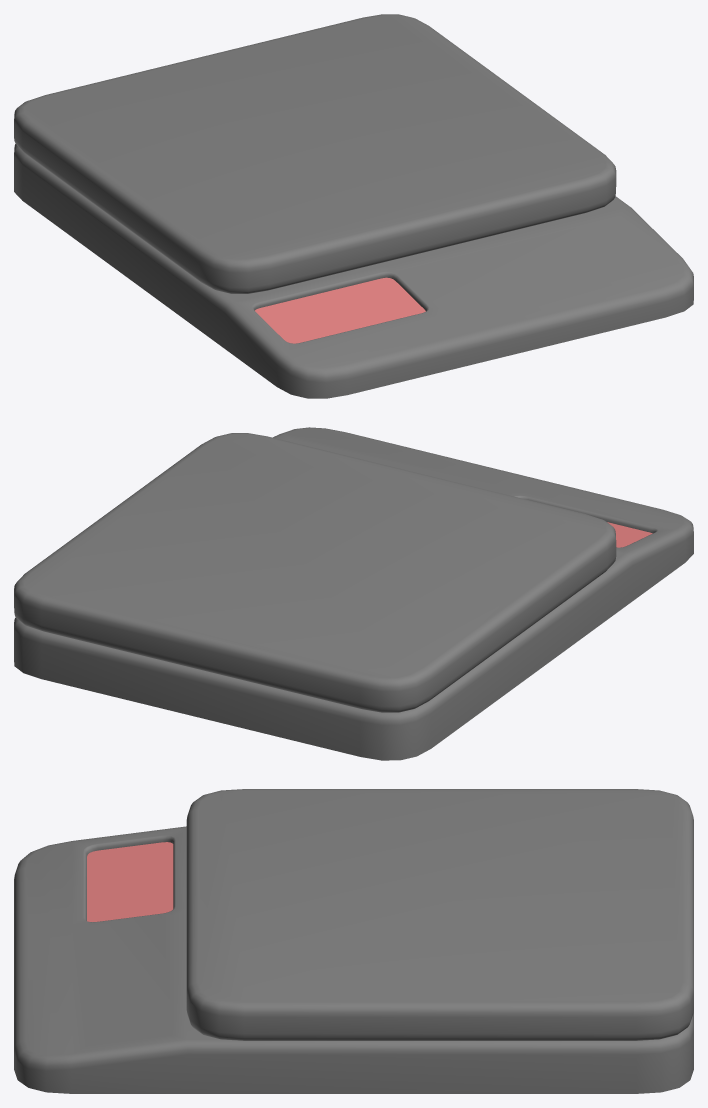
Rendered from SM_Scales_A.fbx.
3 views of the same model, one above another, from view 1: azimuth 30°, elevation 25°; view 2: azimuth 150°, elevation 25°; view 3: azimuth 270°, elevation 25° (orthographic). The views are drawn at different scales.
Visible parts, largest first — view 1: SM_Scales_A; view 2: SM_Scales_A; view 3: SM_Scales_A.
Part boxes in pixels (<box>): SM_Scales_A: <box>14,14,693,398</box>; SM_Scales_A: <box>14,427,693,760</box>; SM_Scales_A: <box>14,789,693,1093</box>.
Bounding box in the file's own units: 45.45 × 8.33 × 59.02.
